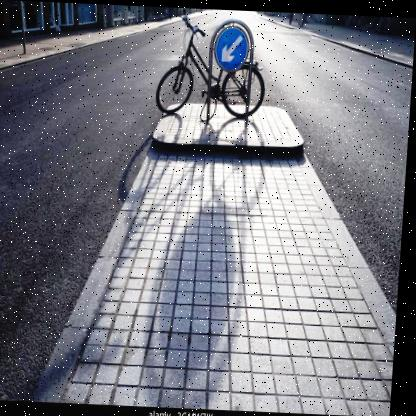Keep left: (212, 16, 254, 73)
